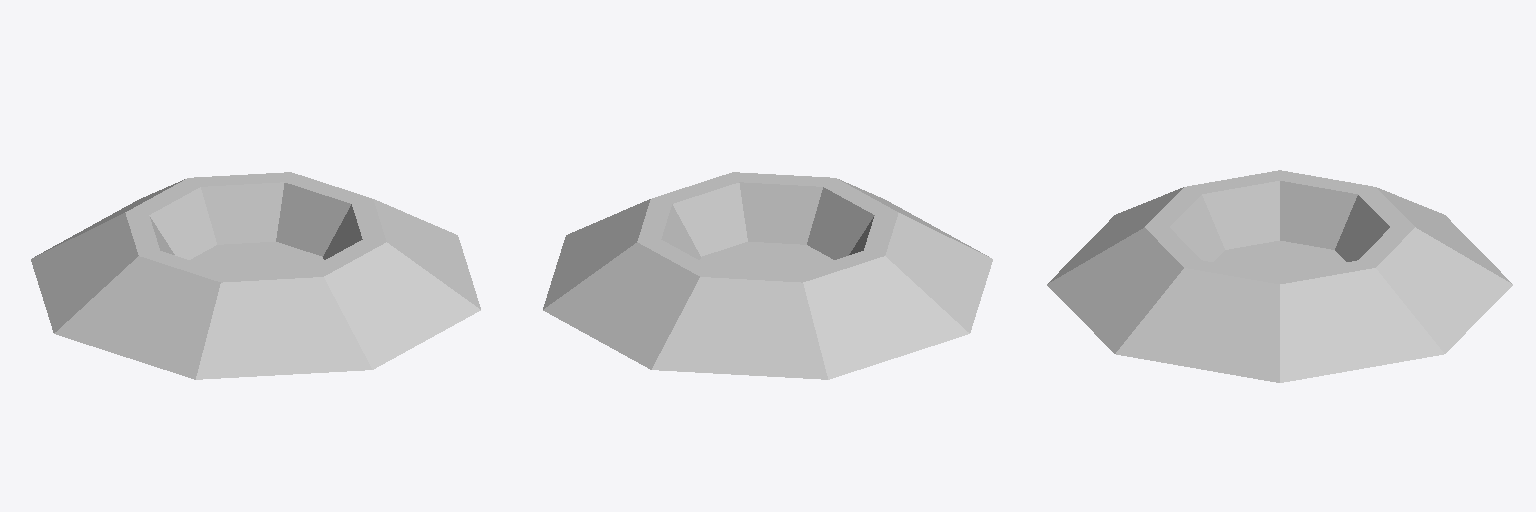
Rendered from craterLarge.obj.
The picture shows the model from 3 angles: view 1: azimuth 30°, elevation 25°; view 2: azimuth 150°, elevation 25°; view 3: azimuth 270°, elevation 25°; orthographic projection.
Visible parts, largest first — view 1: craterLarge; view 2: craterLarge; view 3: craterLarge.
Boxes of the visible parts, x1=… form: craterLarge: x1=31, y1=172, x2=480, y2=379; craterLarge: x1=543, y1=172, x2=992, y2=379; craterLarge: x1=1047, y1=170, x2=1512, y2=382.
Size of the model in its own units: 0.886 by 0.12 by 0.886.